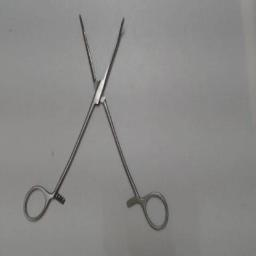Lahey Forceps: (16, 10, 172, 238)
